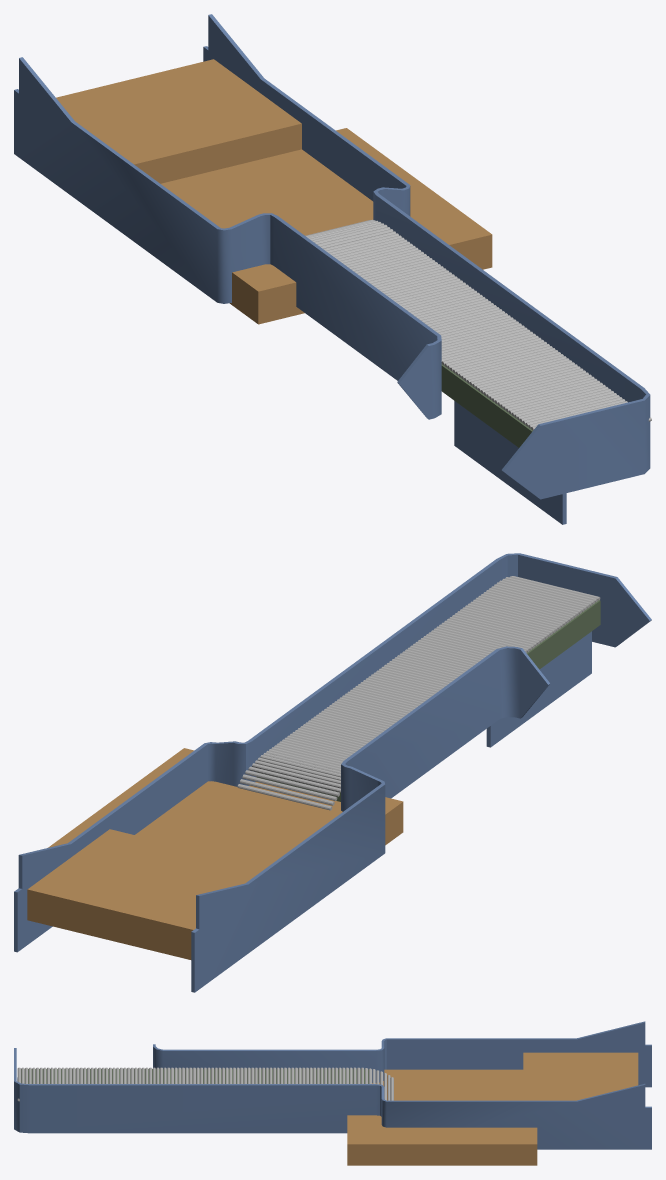
File: MainConveyor.fbx
3 views of the same model, one above another, from view 1: azimuth 30°, elevation 25°; view 2: azimuth 150°, elevation 25°; view 3: azimuth 270°, elevation 25° (orthographic). The views are drawn at different scales.
Visible parts, largest first — view 1: RightWall, LeftWall, Rails, ground2, ground1, Bottom, GreenBottom; view 2: RightWall, Rails, LeftWall, ground2, ground1, Bottom, GreenBottom; view 3: LeftWall, ground1, RightWall, Rails, ground2, GreenBottom.
Part boxes in pixels (x1=…): RightWall: x1=14, y1=57, x2=441, y2=419; LeftWall: x1=203, y1=14, x2=650, y2=499; Rails: x1=305, y1=219, x2=651, y2=430; ground2: x1=56, y1=59, x2=301, y2=183; ground1: x1=161, y1=128, x2=492, y2=324; Bottom: x1=454, y1=401, x2=566, y2=524; GreenBottom: x1=441, y1=363, x2=532, y2=447; RightWall: x1=191, y1=646, x2=550, y2=992; Rails: x1=237, y1=576, x2=600, y2=810; LeftWall: x1=14, y1=553, x2=651, y2=952; ground2: x1=27, y1=829, x2=266, y2=959; ground1: x1=48, y1=748, x2=403, y2=867; Bottom: x1=486, y1=631, x2=591, y2=747; GreenBottom: x1=256, y1=600, x2=600, y2=801; LeftWall: x1=14, y1=1048, x2=651, y2=1149; ground1: x1=347, y1=1069, x2=537, y2=1165; RightWall: x1=153, y1=1021, x2=651, y2=1087; Rails: x1=17, y1=1067, x2=393, y2=1101; ground2: x1=523, y1=1052, x2=638, y2=1100; GreenBottom: x1=21, y1=1069, x2=368, y2=1083.
Bounding box in the file's own units: 1980 × 1003 × 6846.
